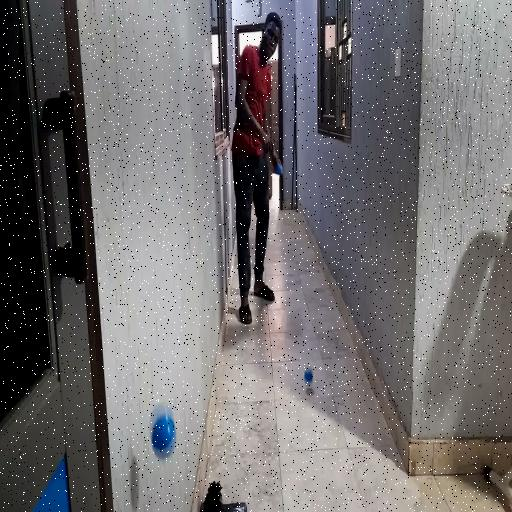plastic-ball: (150, 398, 178, 461)
